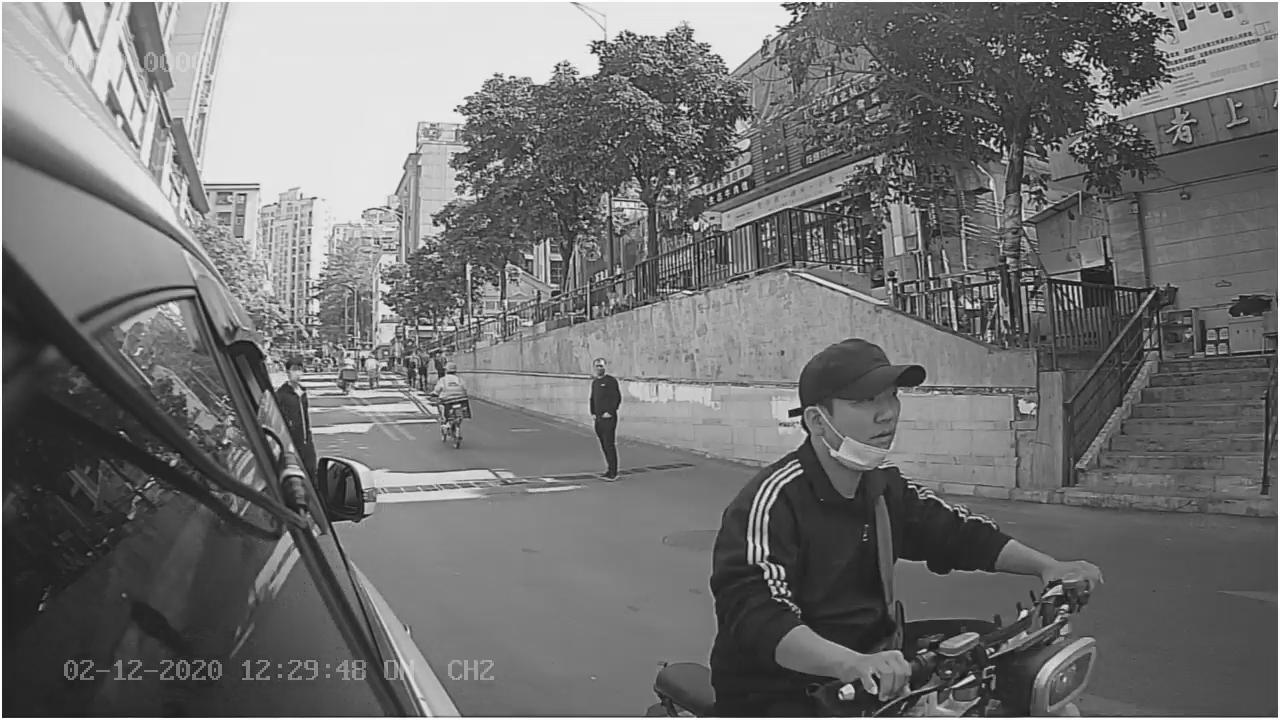person: (705, 334, 993, 697)
